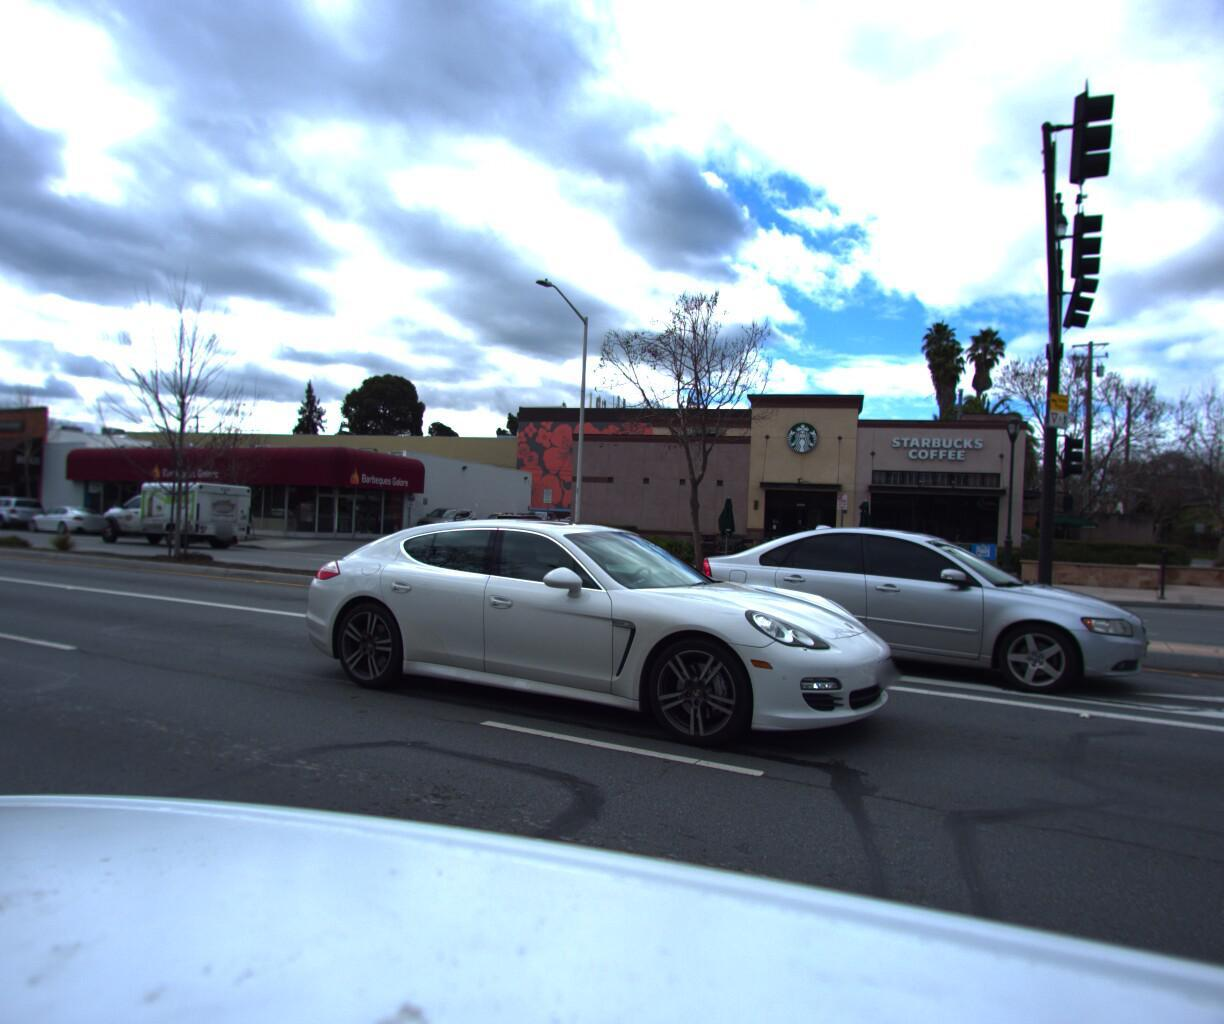car: (286, 503, 924, 789), (668, 508, 1145, 707), (485, 504, 561, 545), (23, 495, 111, 529), (0, 488, 52, 524)
truck: (78, 475, 252, 547)
